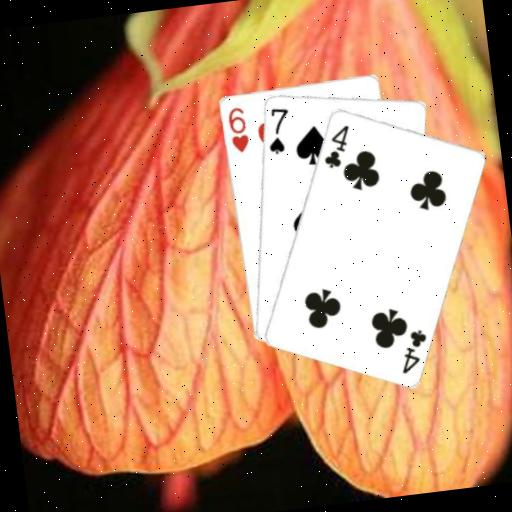4C: (394, 325, 432, 375), (317, 122, 355, 171)
6H: (224, 103, 252, 155)
7S: (261, 104, 294, 157)
